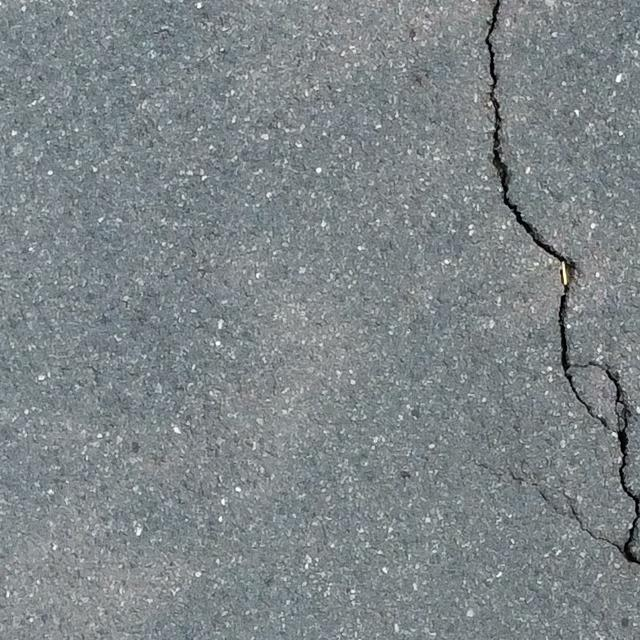LongitudinalCrack: (486, 1, 639, 565)
